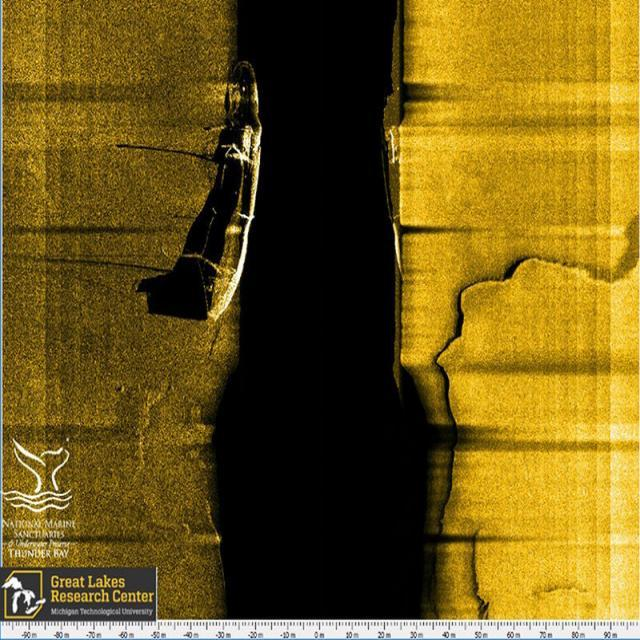shipwreck: (192, 56, 262, 320)
